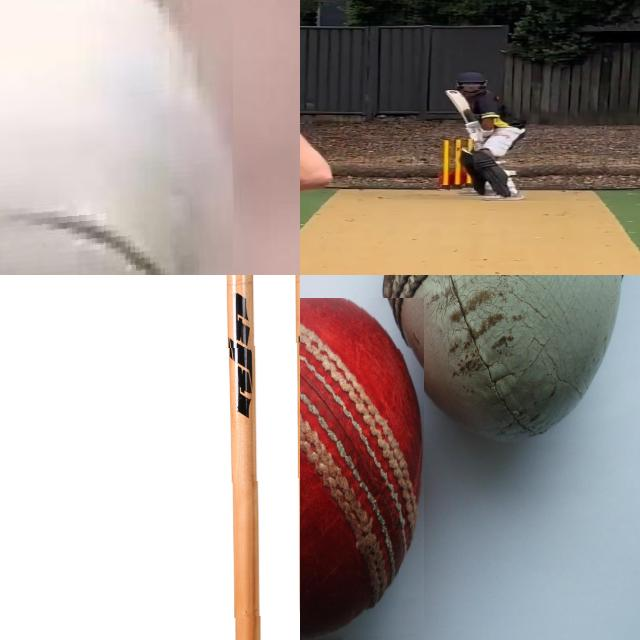Cricket ball: (0, 0, 233, 275), (379, 275, 628, 449), (300, 298, 423, 640)
Stumps: (217, 275, 300, 640), (443, 138, 474, 193)
